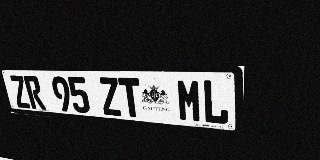5: (67, 77, 91, 114)
9: (50, 76, 74, 112)
L: (202, 79, 229, 125)
M: (176, 79, 202, 123)
R: (23, 76, 46, 110)
T: (118, 78, 143, 118)
Z: (98, 77, 123, 116), (8, 75, 32, 109)
